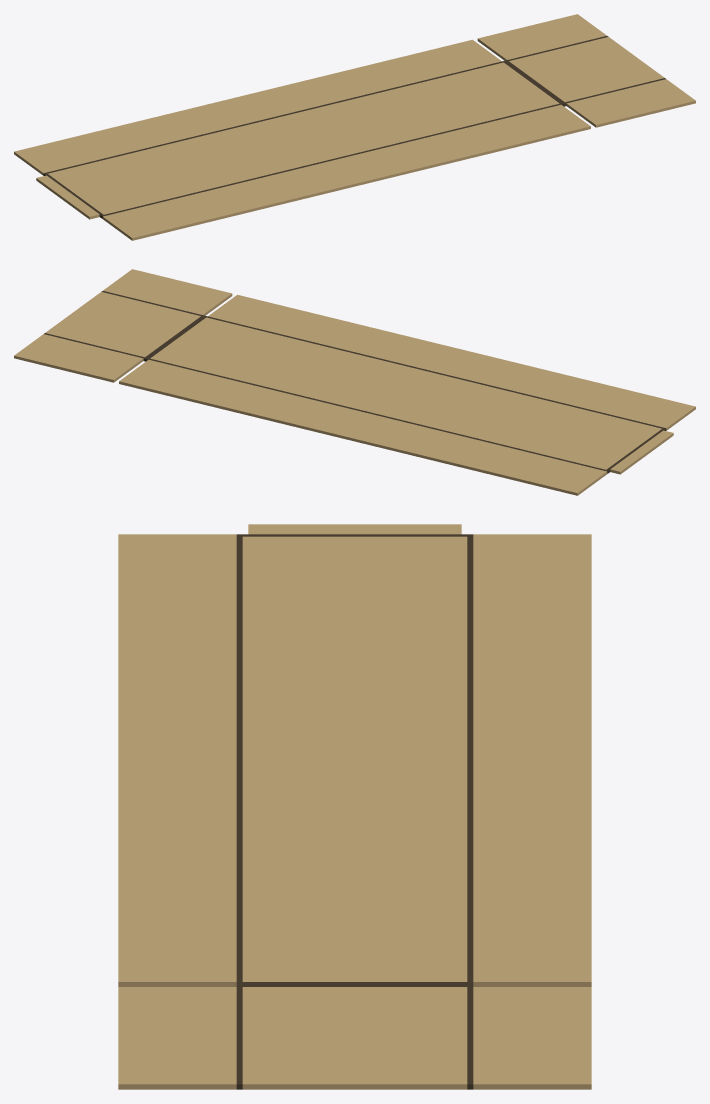
File: box_oversize_folded.glb
3 renders of one model, top to bottom at view 1: azimuth 30°, elevation 25°; view 2: azimuth 150°, elevation 25°; view 3: azimuth 270°, elevation 25°, orthographic. The views are drawn at different scales.
Visible parts, largest first — view 1: box_oversize_folded:compound; view 2: box_oversize_folded:compound; view 3: box_oversize_folded:compound.
Part boxes in pixels (box(x1,y1,x2,y2)): box_oversize_folded:compound: box(14, 14, 695, 240); box_oversize_folded:compound: box(14, 269, 695, 495); box_oversize_folded:compound: box(118, 524, 591, 1089).
Size of the model in its own units: 2.24 by 0.01 by 0.8.
